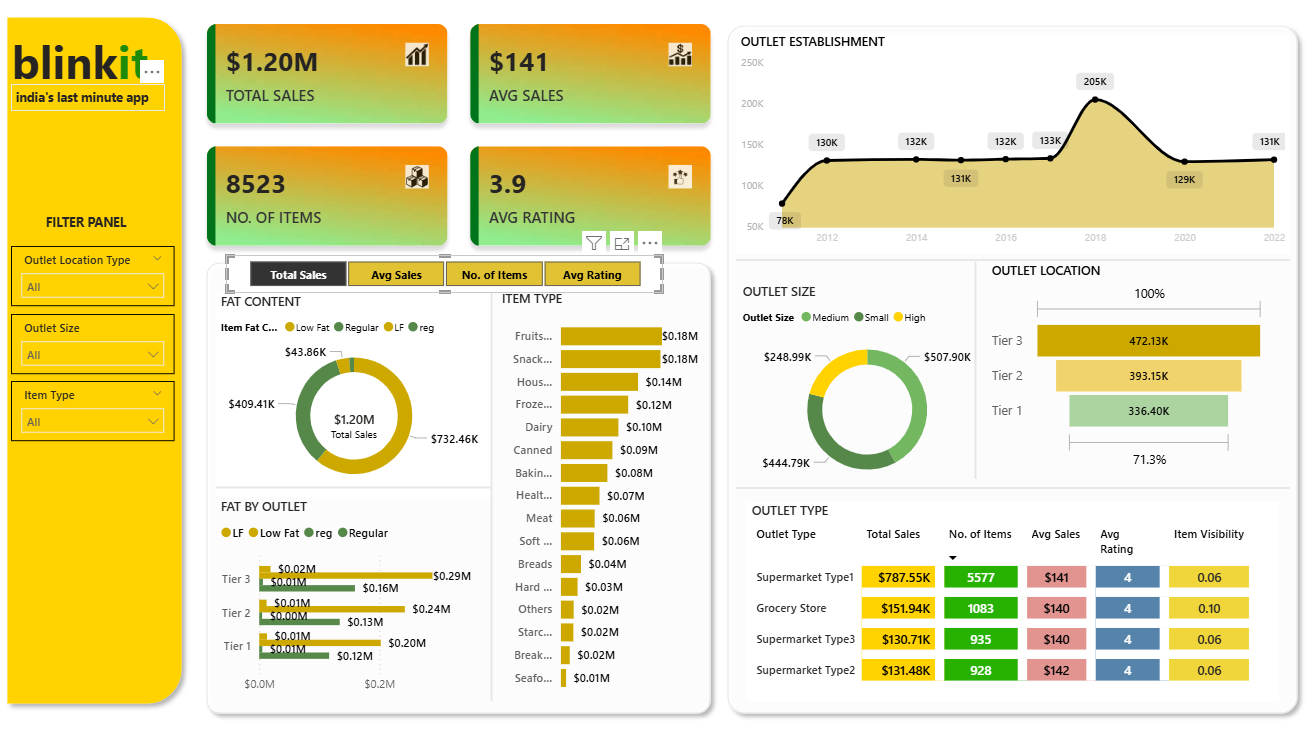

What the dashboard file says about the page in this screenshot:
{"tool":"powerbi","page":{"name":"Page 1","canvas":[1400,800],"ordinal":0},"visuals":[{"type":"shape","box":[0,10.6,205.3,750],"z":0},{"type":"textbox","box":[9.6,28.7,178.7,91.5],"z":1000},{"type":"textbox","box":[13.8,91.5,163.8,28.7],"z":2000},{"type":"cardVisual","fields":{"Data":["BlinkIT Grocery Data.Total Sales","BlinkIT Grocery Data.Avg Sales","BlinkIT Grocery Data.No. of Items","BlinkIT Grocery Data.Avg Rating"]},"box":[205.3,10.6,570.2,270.2],"z":3000},{"type":"shape","box":[212.8,272.3,554.3,497.9],"z":4000},{"type":"donutChart","title":"FAT CONTENT","fields":{"Y":["BlinkIT Grocery Data.Total Sales"],"Category":["BlinkIT Grocery Data.Item Fat Content"]},"box":[231.9,313.8,293.6,217],"z":5000},{"type":"slicer","fields":{"Values":["Metrics.Metrics"]},"box":[242.6,273.4,464.9,40.4],"z":6000},{"type":"cardVisual","fields":{"Data":["BlinkIT Grocery Data.Total Sales"]},"box":[328.7,422.3,100,57.4],"z":7000},{"type":"clusteredBarChart","title":"FAT BY OUTLET","fields":{"Y":["BlinkIT Grocery Data.Total Sales"],"Category":["BlinkIT Grocery Data.Outlet Location Type"],"Series":["BlinkIT Grocery Data.Item Fat Content"]},"box":[231.9,531.9,293.6,216],"z":8000},{"type":"shape","box":[231.9,511.7,293.6,18.1],"z":9000},{"type":"shape","box":[519.1,311.7,11.7,436.2],"z":10000},{"type":"barChart","title":"ITEM TYPE","fields":{"Y":["BlinkIT Grocery Data.Total Sales"],"Category":["BlinkIT Grocery Data.Item Type"]},"box":[530.9,310.6,219.1,437.2],"z":11000},{"type":"shape","box":[767,20.2,624.5,750],"z":12000},{"type":"lineChart","title":"OUTLET ESTABLISHMENT","fields":{"Y":["Sum(BlinkIT Grocery Data.Sales)"],"Category":["BlinkIT Grocery Data.Outlet Establishment Year"]},"box":[785.1,37.2,589.4,235.1],"z":13000},{"type":"shape","box":[785.1,263.8,589.4,29.8],"z":14000},{"type":"donutChart","title":"OUTLET SIZE","fields":{"Y":["BlinkIT Grocery Data.Total Sales"],"Category":["BlinkIT Grocery Data.Outlet Size"]},"box":[787.2,303.2,275,225],"z":15000},{"type":"shape","box":[1028.7,280.9,22.3,230.9],"z":16000},{"type":"funnel","title":"OUTLET LOCATION","fields":{"Y":["Sum(BlinkIT Grocery Data.Sales)"],"Category":["BlinkIT Grocery Data.Outlet Location Type"]},"box":[1052,280.8,300.6,225],"z":17000},{"type":"shape","box":[785.1,506.4,589.4,29.8],"z":18000},{"type":"pivotTable","title":"OUTLET TYPE","fields":{"Rows":["BlinkIT Grocery Data.Outlet Type"],"Values":["BlinkIT Grocery Data.Total Sales","BlinkIT Grocery Data.No. of Items","BlinkIT Grocery Data.Avg Sales","BlinkIT Grocery Data.Avg Rating","Avg(BlinkIT Grocery Data.Item Visibility)"]},"box":[796.8,536.2,566,211.7],"z":19000},{"type":"slicer","fields":{"Values":["BlinkIT Grocery Data.Outlet Location Type"]},"box":[13.8,263.8,174.5,63.8],"z":20000},{"type":"slicer","fields":{"Values":["BlinkIT Grocery Data.Outlet Size"]},"box":[13.8,336.2,174.5,63.8],"z":21000},{"type":"slicer","fields":{"Values":["BlinkIT Grocery Data.Item Type"]},"box":[13.8,407.4,174.5,63.8],"z":22000},{"type":"textbox","box":[45.7,224.5,105.3,28.7],"z":23000}]}

Visuals, with their boxes in screenshot pixels (x1, y1, x2, y2), scaled from the page's 1400x800 canvas onto the 1310x747 screenshot:
shape: {"x1": 0, "y1": 10, "x2": 192, "y2": 710}
textbox: {"x1": 9, "y1": 27, "x2": 176, "y2": 112}
textbox: {"x1": 13, "y1": 85, "x2": 166, "y2": 112}
cardVisual - BlinkIT Grocery Data.Total Sales x BlinkIT Grocery Data.Avg Sales: {"x1": 192, "y1": 10, "x2": 726, "y2": 262}
shape: {"x1": 199, "y1": 254, "x2": 718, "y2": 719}
"FAT CONTENT" donutChart: {"x1": 217, "y1": 293, "x2": 492, "y2": 496}
slicer - Metrics.Metrics: {"x1": 227, "y1": 255, "x2": 662, "y2": 293}
cardVisual - BlinkIT Grocery Data.Total Sales: {"x1": 308, "y1": 394, "x2": 401, "y2": 448}
"FAT BY OUTLET" clusteredBarChart: {"x1": 217, "y1": 497, "x2": 492, "y2": 698}
shape: {"x1": 217, "y1": 478, "x2": 492, "y2": 495}
shape: {"x1": 486, "y1": 291, "x2": 497, "y2": 698}
"ITEM TYPE" barChart: {"x1": 497, "y1": 290, "x2": 702, "y2": 698}
shape: {"x1": 718, "y1": 19, "x2": 1302, "y2": 719}
"OUTLET ESTABLISHMENT" lineChart: {"x1": 735, "y1": 35, "x2": 1286, "y2": 254}
shape: {"x1": 735, "y1": 246, "x2": 1286, "y2": 274}
"OUTLET SIZE" donutChart: {"x1": 737, "y1": 283, "x2": 994, "y2": 493}
shape: {"x1": 963, "y1": 262, "x2": 983, "y2": 478}
"OUTLET LOCATION" funnel: {"x1": 984, "y1": 262, "x2": 1266, "y2": 472}
shape: {"x1": 735, "y1": 473, "x2": 1286, "y2": 501}
"OUTLET TYPE" pivotTable: {"x1": 746, "y1": 501, "x2": 1275, "y2": 698}
slicer - BlinkIT Grocery Data.Outlet Location Type: {"x1": 13, "y1": 246, "x2": 176, "y2": 306}
slicer - BlinkIT Grocery Data.Outlet Size: {"x1": 13, "y1": 314, "x2": 176, "y2": 374}
slicer - BlinkIT Grocery Data.Item Type: {"x1": 13, "y1": 380, "x2": 176, "y2": 440}
textbox: {"x1": 43, "y1": 210, "x2": 141, "y2": 236}
